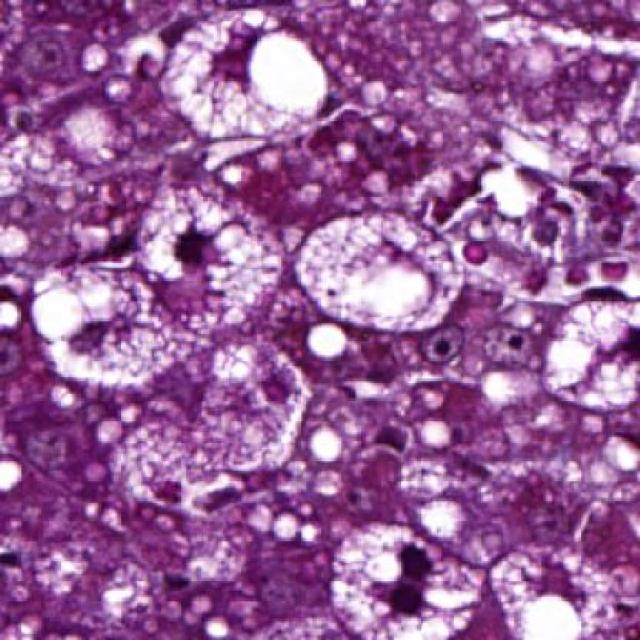ballooning: (131, 171, 285, 337), (289, 203, 469, 341), (157, 8, 331, 148), (28, 257, 204, 392), (328, 514, 486, 640)
